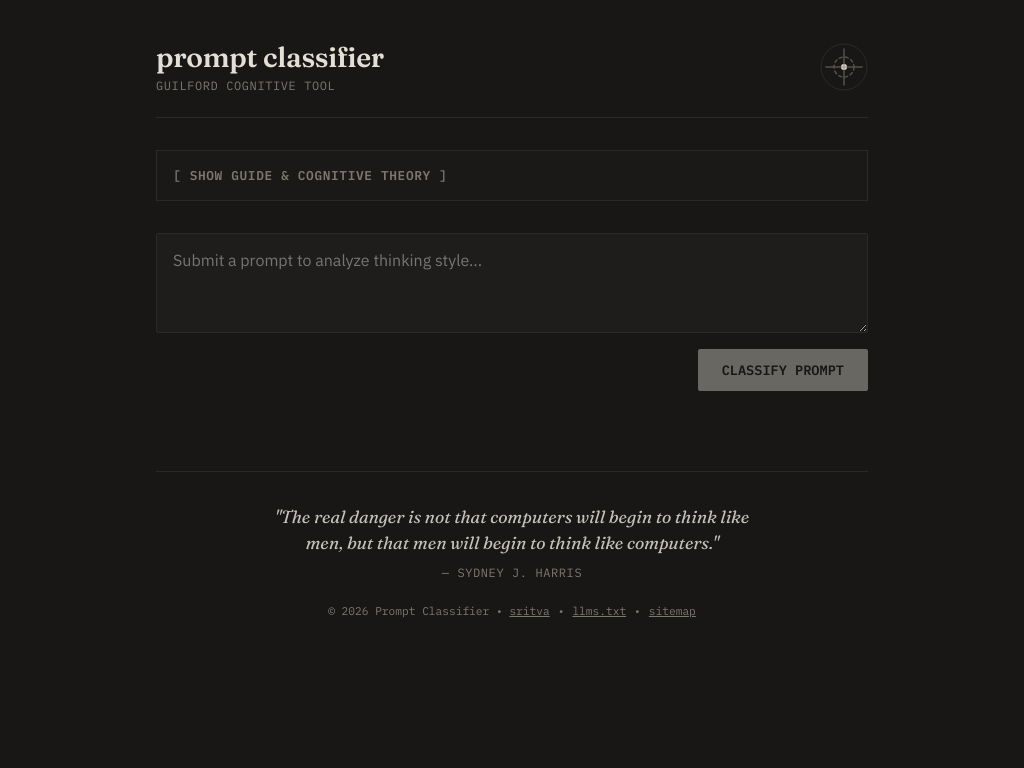
Test case: Prompt Classifier Frontend App › renders success state and adds prompt to history
The image size is (1024, 768).
Type "Explain relativity." into the text box with placeholder "Submit a prompt to analyze thinking style..." at (512, 283), box top-left (156, 233), bottom-right (868, 333)
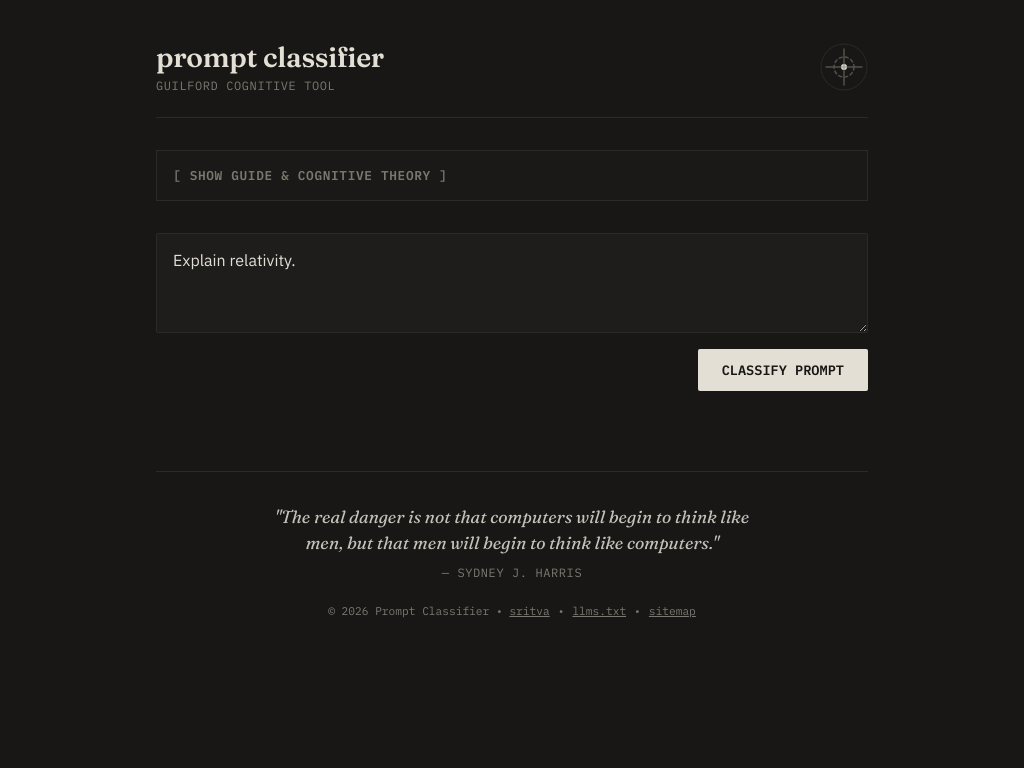
Click the button "Classify Prompt" at (783, 370), box top-left (698, 349), bottom-right (868, 391)
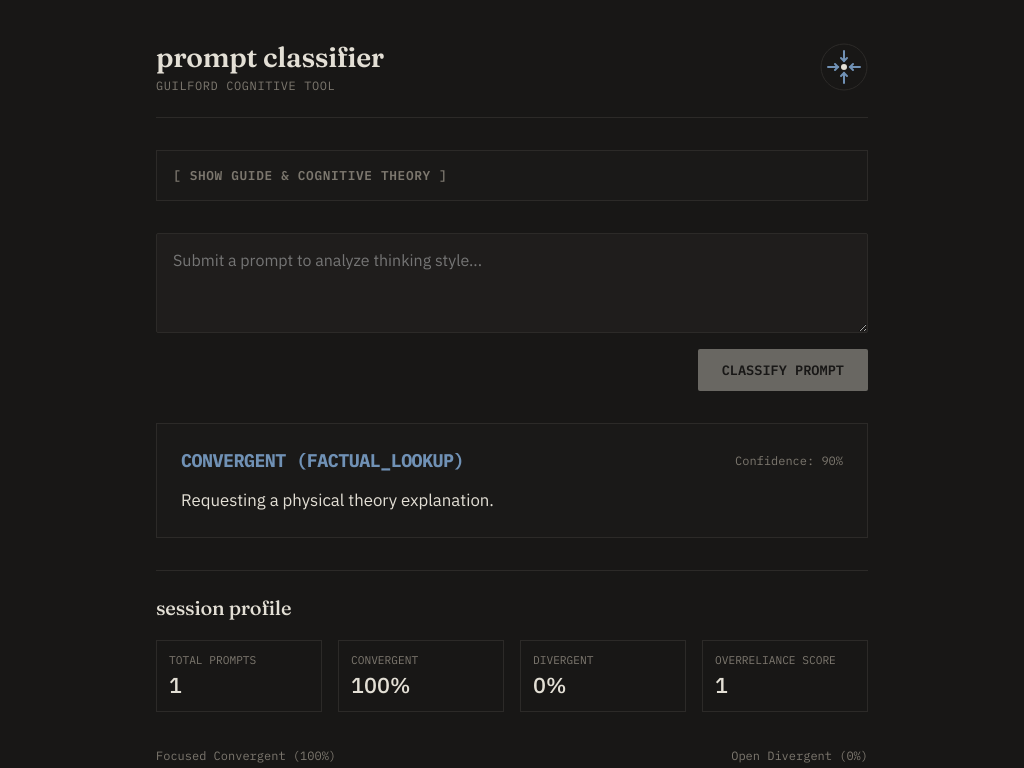
Expected: the text "Requesting a physical theory explanation." is shown, top-left (181, 489), bottom-right (494, 511)
Expected: the text "convergent (factual_lookup)" is shown, top-left (181, 448), bottom-right (464, 472)
Expected: the heading "session profile" is shown, top-left (156, 595), bottom-right (291, 620)
